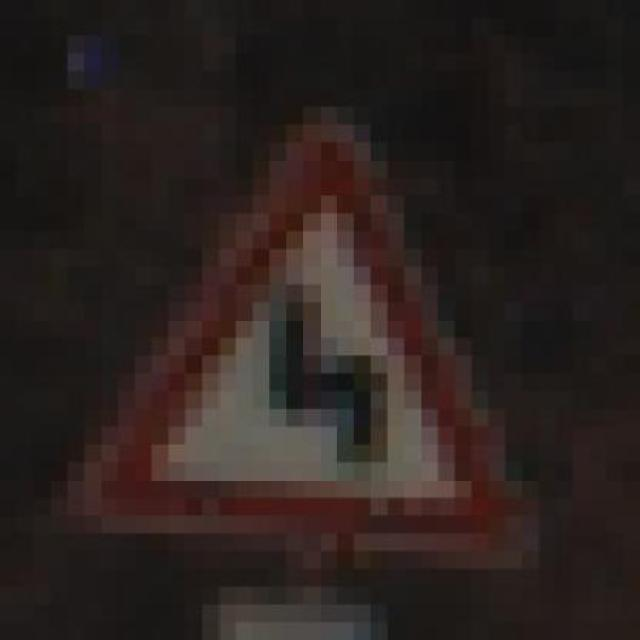Left Zig Zag Traffic: (67, 71, 539, 569)
